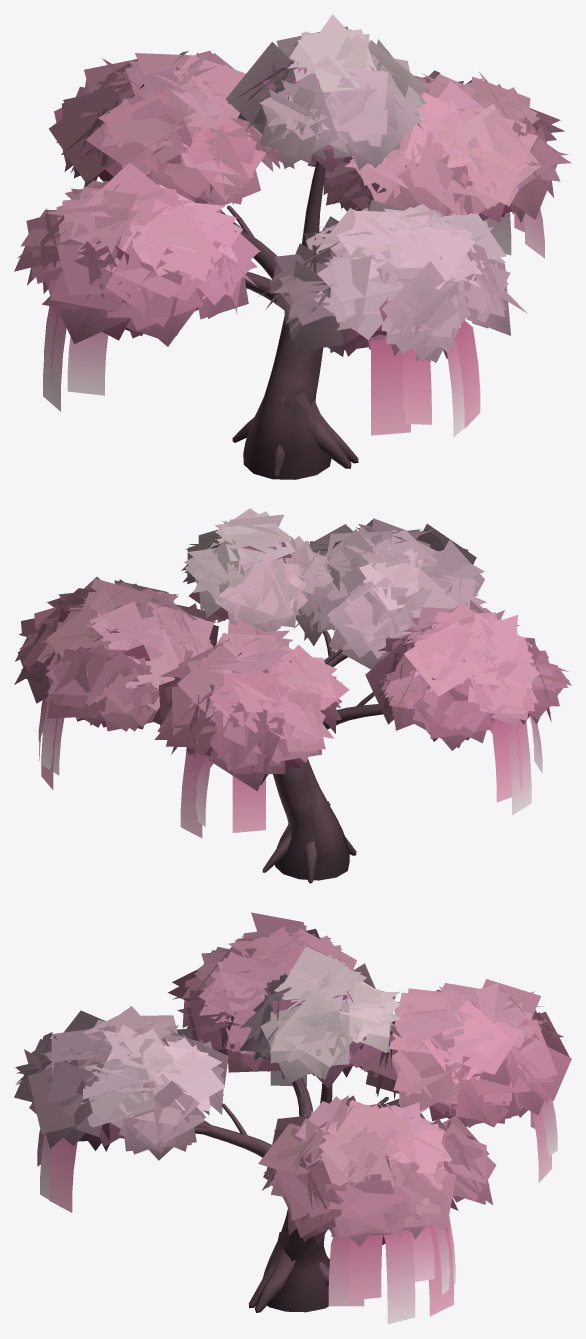
The model's file is tree-village-sakura-v1.glb.
3 renders of one model, top to bottom at view 1: azimuth 30°, elevation 25°; view 2: azimuth 150°, elevation 25°; view 3: azimuth 270°, elevation 25°, orthographic. The views are drawn at different scales.
Visible parts, largest first — view 1: cards_sakura, bark; view 2: cards_sakura, bark; view 3: cards_sakura, bark.
Boxes of the visible parts, x1,y1,x2,y2 form: cards_sakura: (14,14,571,437); bark: (220,161,358,479); cards_sakura: (14,508,571,837); bark: (262,630,382,883); cards_sakura: (14,912,571,1324); bark: (194,1077,399,1312).
Bounding box in the file's own units: 8.97 × 6.06 × 8.41.
